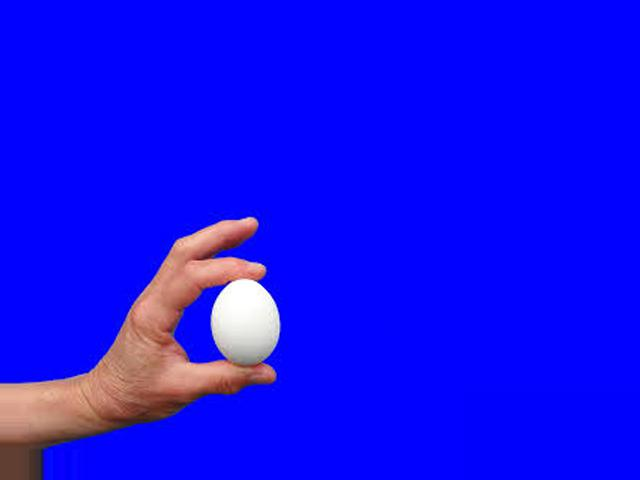egg: (210, 277, 280, 366)
